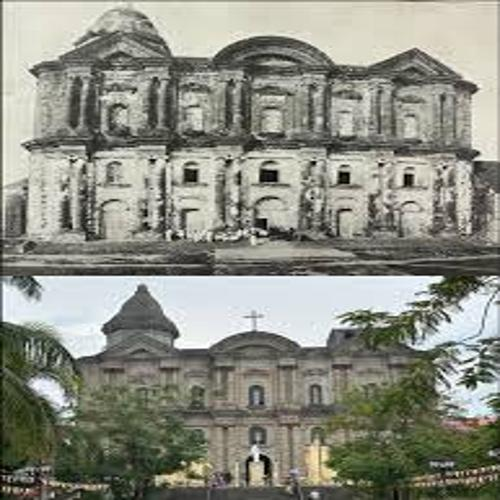Taal Basilica Church: (21, 5, 484, 249), (57, 285, 454, 479)
